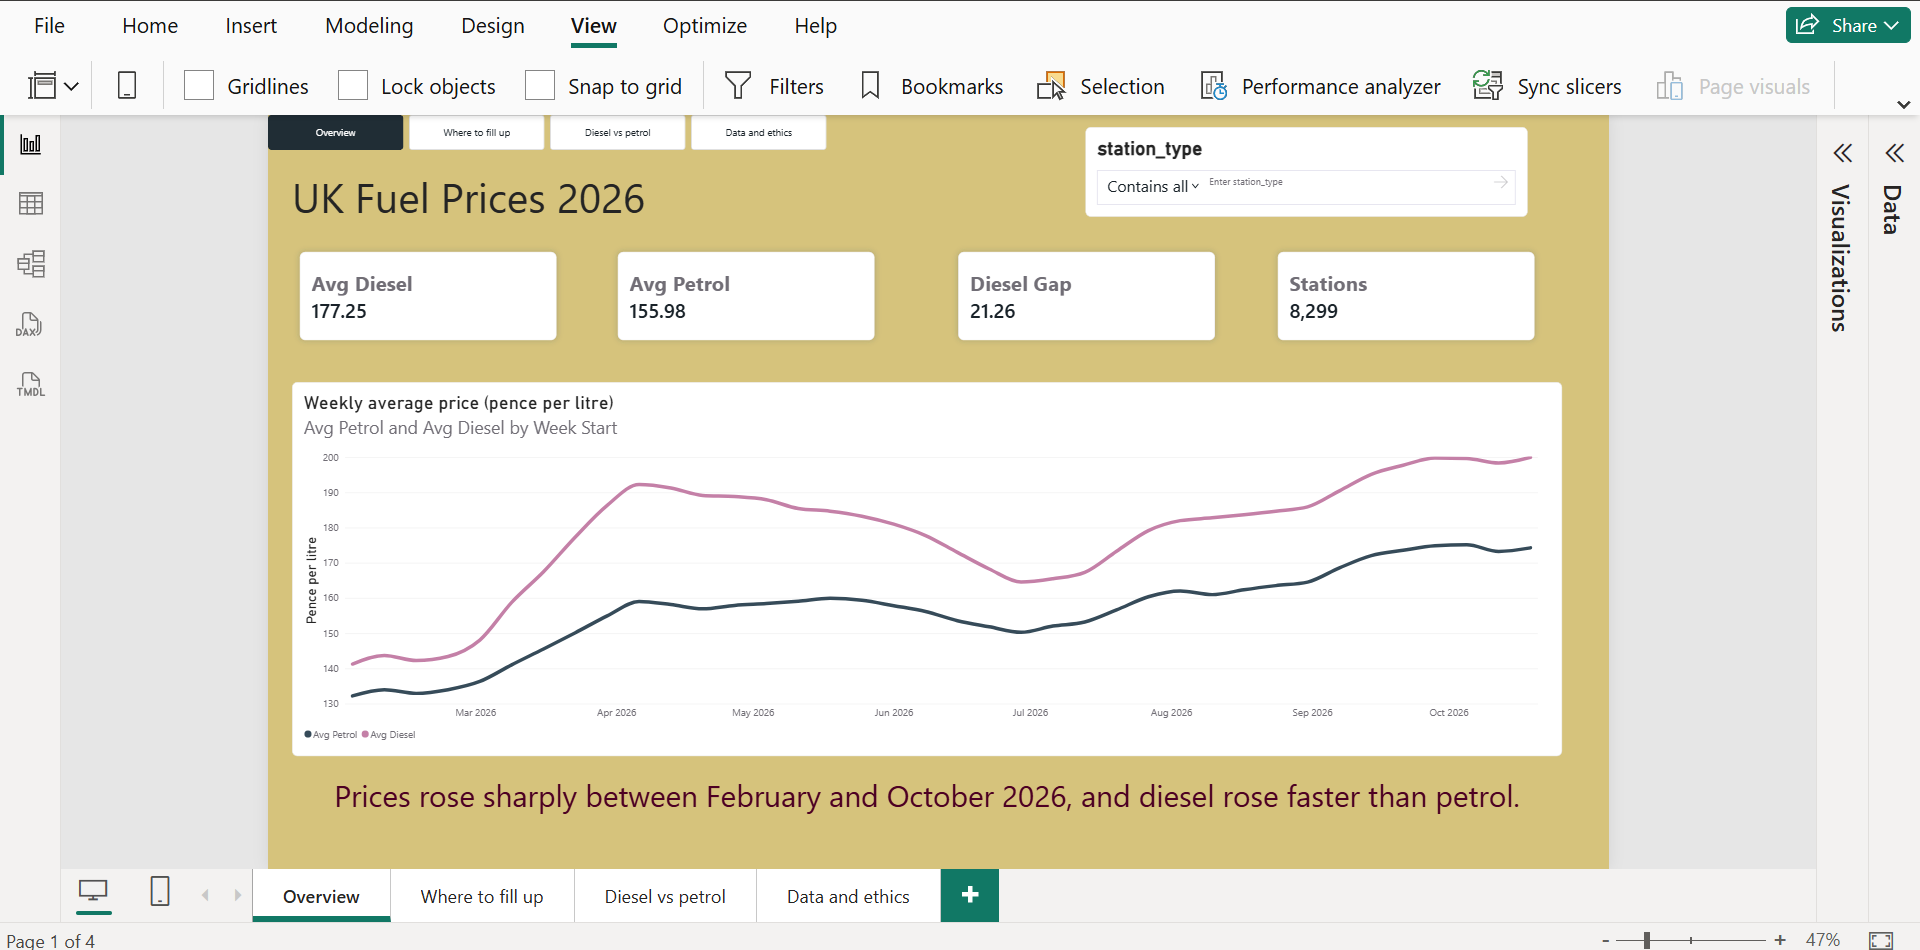

What the dashboard file says about the page in this screenshot:
{"tool":"powerbi","page":{"name":"Overview","canvas":[1920,1080],"ordinal":0},"visuals":[{"type":"lineChart","title":"Weekly average price (pence per litre)","fields":{"Category":["prices_cleaned.Week Start"],"Y":["prices_cleaned.Avg Petrol","prices_cleaned.Avg Diesel"]},"box":[34.1,381.6,1819.3,536],"z":0},{"type":"textbox","box":[34.1,0,781.3,106.8],"z":1000},{"type":"cardVisual","fields":{"Data":["prices_cleaned.Avg Diesel"]},"box":[34.1,184,390.7,149.9],"z":2000},{"type":"cardVisual","fields":{"Data":["prices_cleaned.Avg Petrol"]},"box":[490.6,184,390.7,149.9],"z":3000},{"type":"cardVisual","fields":{"Data":["prices_cleaned.Diesel Gap"]},"box":[976.7,184,390.7,149.9],"z":4000},{"type":"cardVisual","fields":{"Data":["prices_cleaned.Stations Count"]},"box":[1435.5,184,390.7,149.9],"z":5000},{"type":"textSlicer","fields":{"Values":["stations_cleaned.station_type"]},"box":[1171.9,17,633.3,128.6],"z":6000},{"type":"textbox","box":[34.1,944.9,1819.3,95.4],"z":7000}]}

Visuals, with their boxes on the page's 1920x1080 design canvas (x1, y1, x2, y2). These are canvas units, not pixel positions in the 1920x950 screenshot, which may show the page scaled, cropped or inside an application window:
"Weekly average price (pence per litre)" lineChart: Rect(34, 382, 1853, 918)
textbox: Rect(34, 0, 815, 107)
cardVisual - prices_cleaned.Avg Diesel: Rect(34, 184, 425, 334)
cardVisual - prices_cleaned.Avg Petrol: Rect(491, 184, 881, 334)
cardVisual - prices_cleaned.Diesel Gap: Rect(977, 184, 1367, 334)
cardVisual - prices_cleaned.Stations Count: Rect(1436, 184, 1826, 334)
textSlicer - stations_cleaned.station_type: Rect(1172, 17, 1805, 146)
textbox: Rect(34, 945, 1853, 1040)
